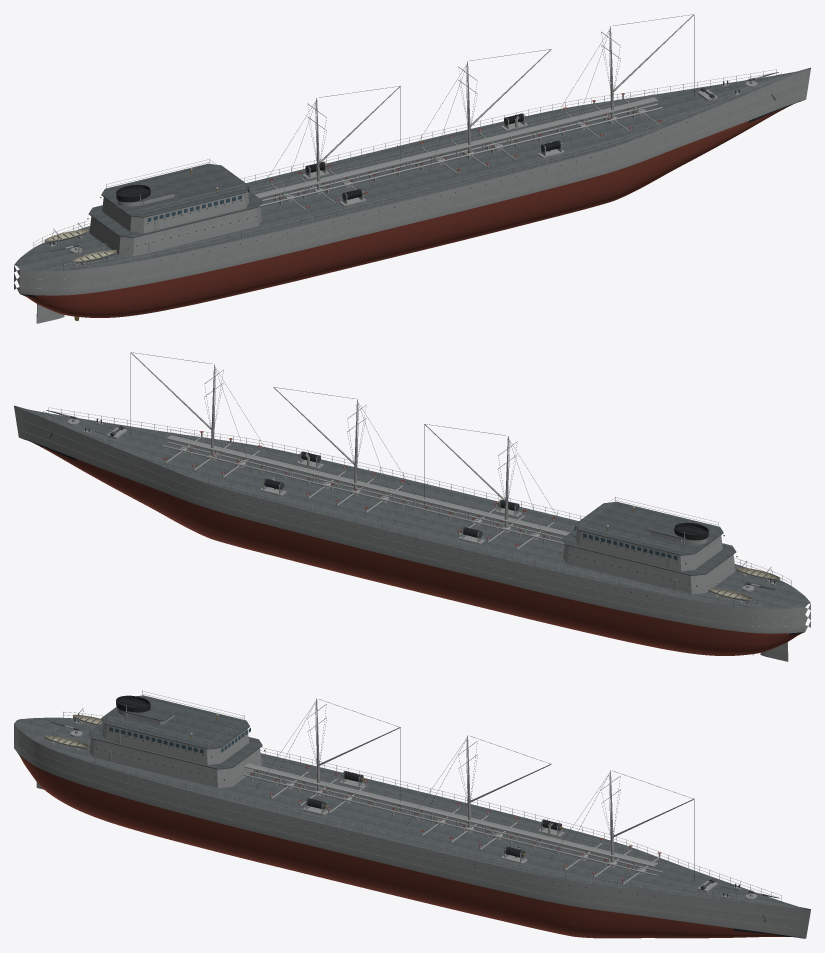
Rendered from fr_support_1922.glb.
The picture shows the model from 3 angles, top to bottom: view 1: azimuth 30°, elevation 25°; view 2: azimuth 150°, elevation 25°; view 3: azimuth 330°, elevation 25°; orthographic projection.
Visible parts, largest first — view 1: Fleet support ship · 1922; view 2: Fleet support ship · 1922; view 3: Fleet support ship · 1922.
Boxes of the visible parts, x1,y1,x2,y2 form: Fleet support ship · 1922: (14,14,810,323); Fleet support ship · 1922: (14,352,810,661); Fleet support ship · 1922: (14,690,810,938).
Size of the model in its own units: 135 by 26.09 by 17.09.
10 materials, 9 textured.
